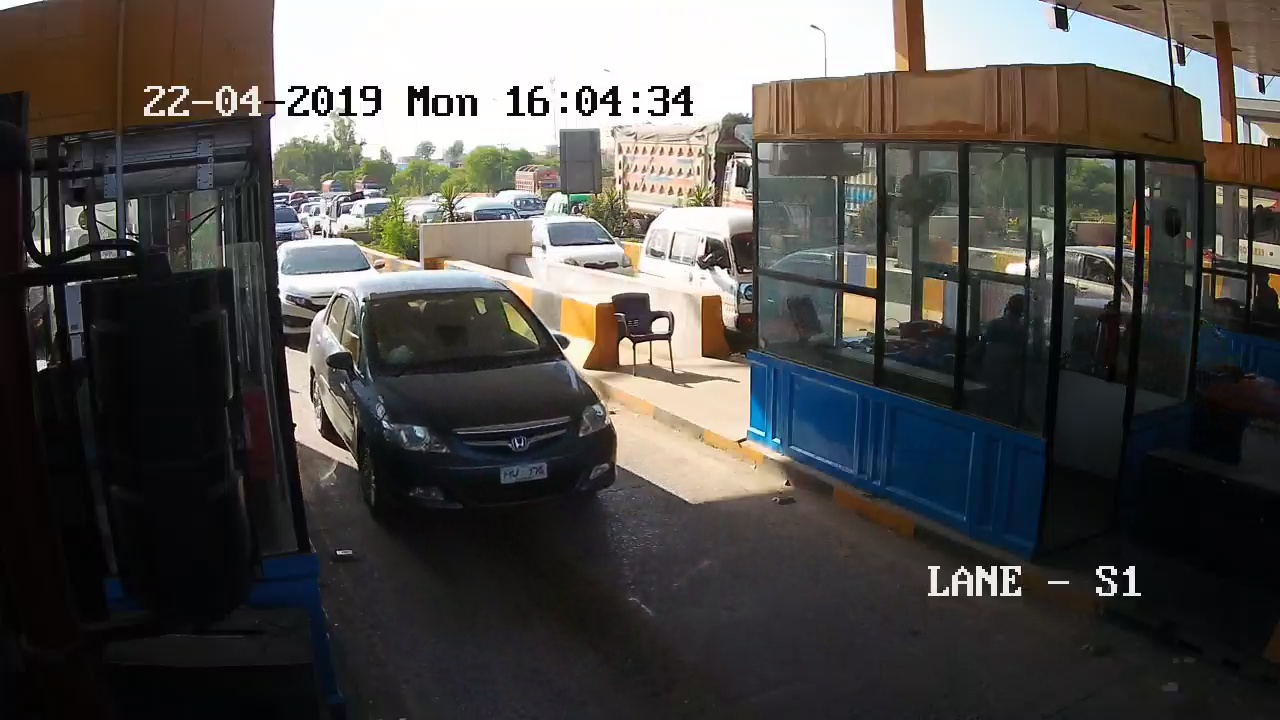Number Plate (Car): (501, 462, 548, 485)
